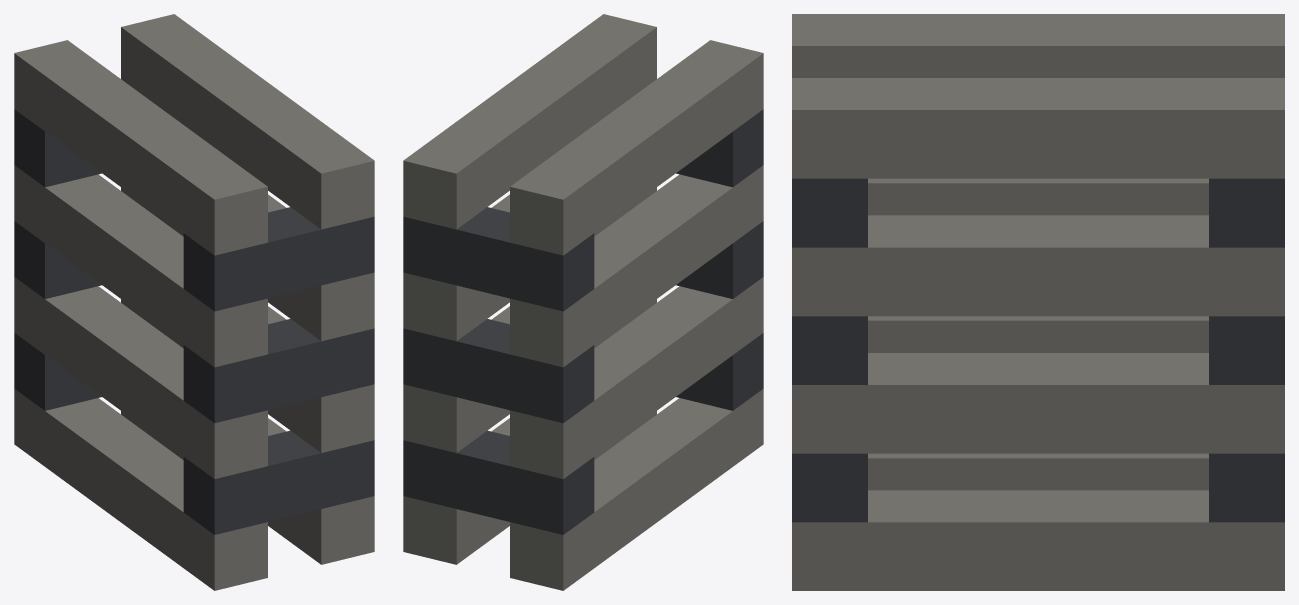
Rendered from env_crib_stack.fbx.
3 renders of one model, left to right at view 1: azimuth 30°, elevation 25°; view 2: azimuth 150°, elevation 25°; view 3: azimuth 270°, elevation 25°, orthographic. The views are drawn at different scales.
Visible parts, largest first — view 1: env_crib_stack; view 2: env_crib_stack; view 3: env_crib_stack.
Part boxes in pixels (bbox=[...]): env_crib_stack: bbox=[14, 14, 374, 590]; env_crib_stack: bbox=[403, 14, 763, 590]; env_crib_stack: bbox=[792, 14, 1284, 590].
Size of the model in its own units: 120 by 280 by 260.
